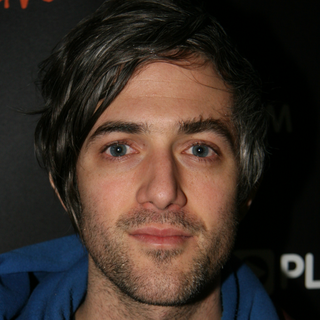eye: (174, 136, 228, 163), (94, 139, 143, 162)
